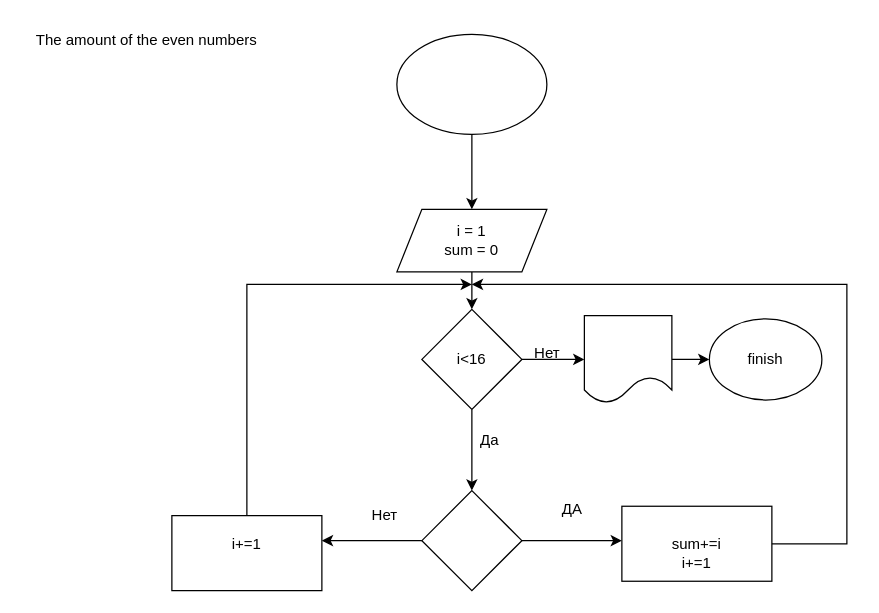
Image size: 879x613. Some labels were removed from this diagram. The shapes that lost their labels are listed below. From the top down, each one's centre as x and y in pixels, then its label:
the point at 471,83: Start
the point at 627,358: sum
the point at 471,540: i % 2 = 0
